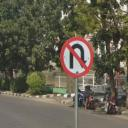NoVirarU: (57, 34, 96, 80)
